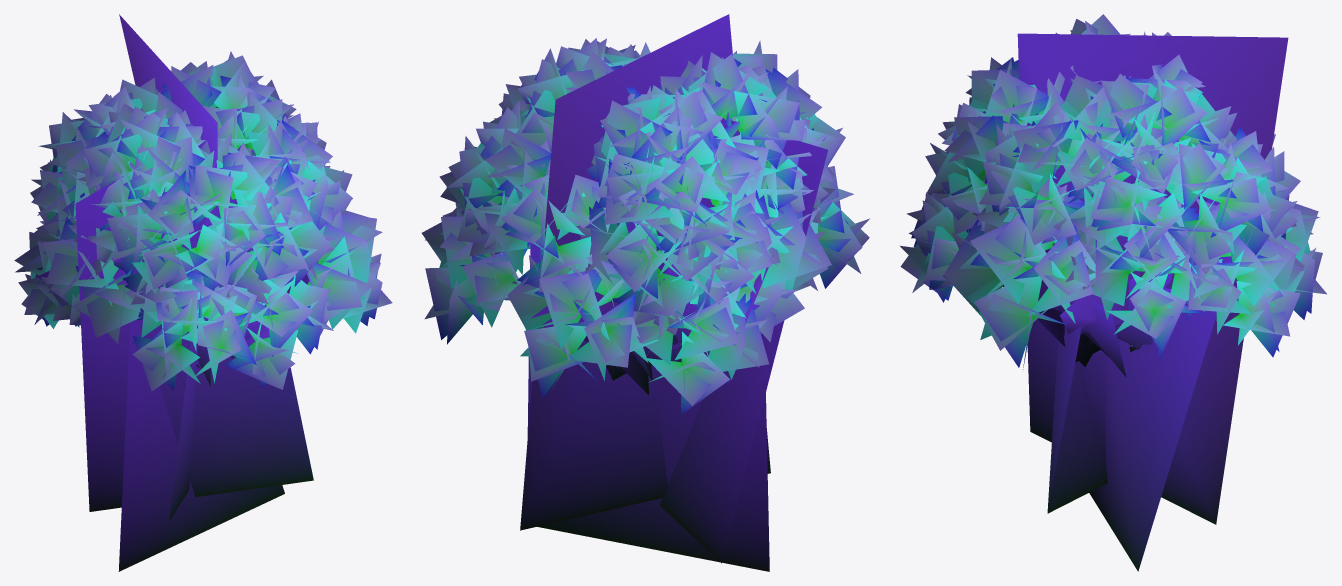
The model's file is pine_test4.dae.
The picture shows the model from 3 angles, left to right: view 1: azimuth 30°, elevation 25°; view 2: azimuth 150°, elevation 25°; view 3: azimuth 270°, elevation 25°; orthographic projection. The views are drawn at different scales.
Parts seen in each view (by area): view 1: Plane_043; view 2: Plane_043; view 3: Plane_043.
Boxes of the visible parts, x1=… form: Plane_043: x1=14, y1=14, x2=392, y2=571; Plane_043: x1=421, y1=14, x2=869, y2=571; Plane_043: x1=900, y1=14, x2=1326, y2=571.
Size of the model in its own units: 4.24 by 4.64 by 5.96.
